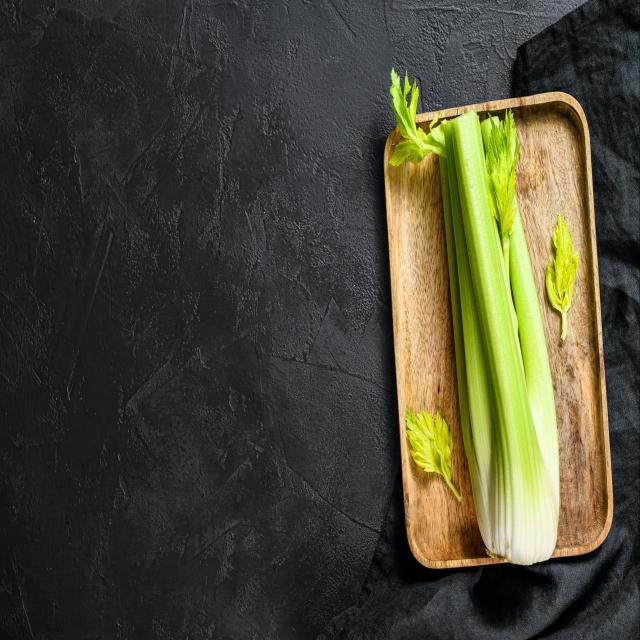Celery stalk: (378, 59, 580, 570)
